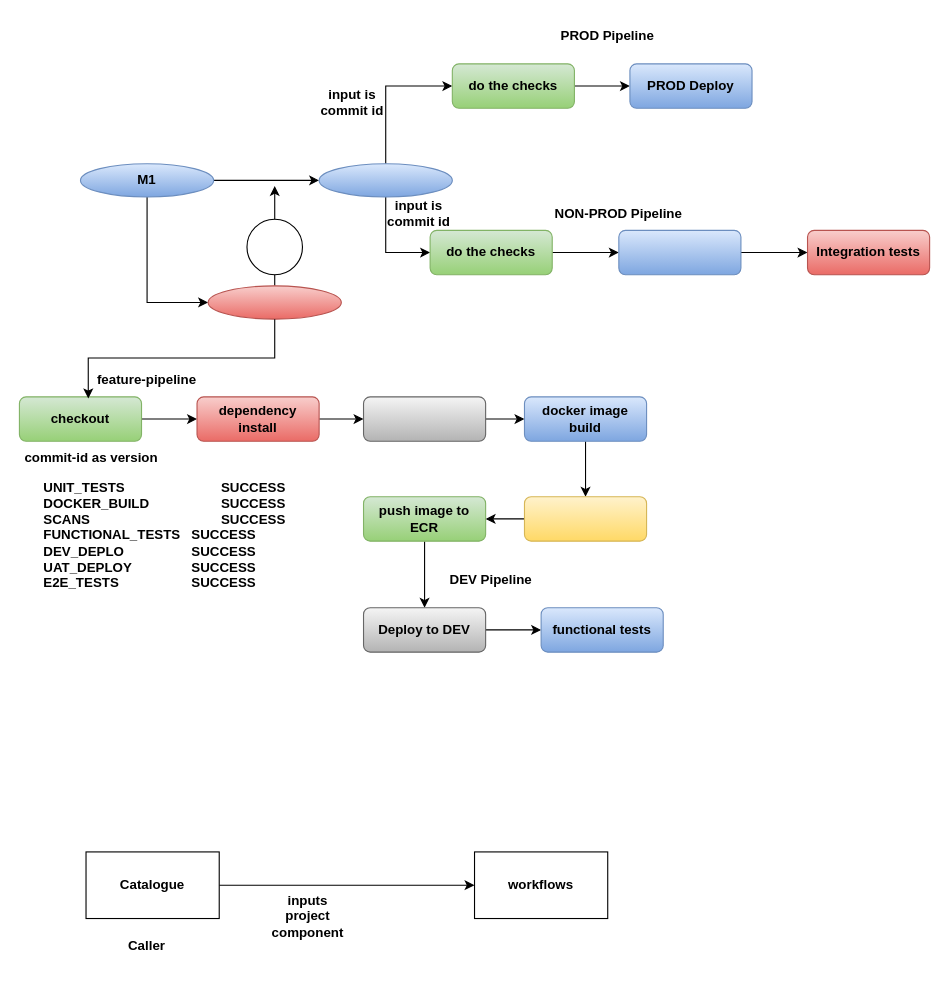
Image size: 949x981. Some labels were removed from this diagram. Each missing label, with the centre of its shape:
"F1" goes at pixel 274 302.
"M2" goes at pixel 385 180.
"PR" goes at pixel 274 246.
"scans" goes at pixel 585 518.
"UAT Deploy" goes at pixel 679 252.
"unit tests" goes at pixel 424 418.
